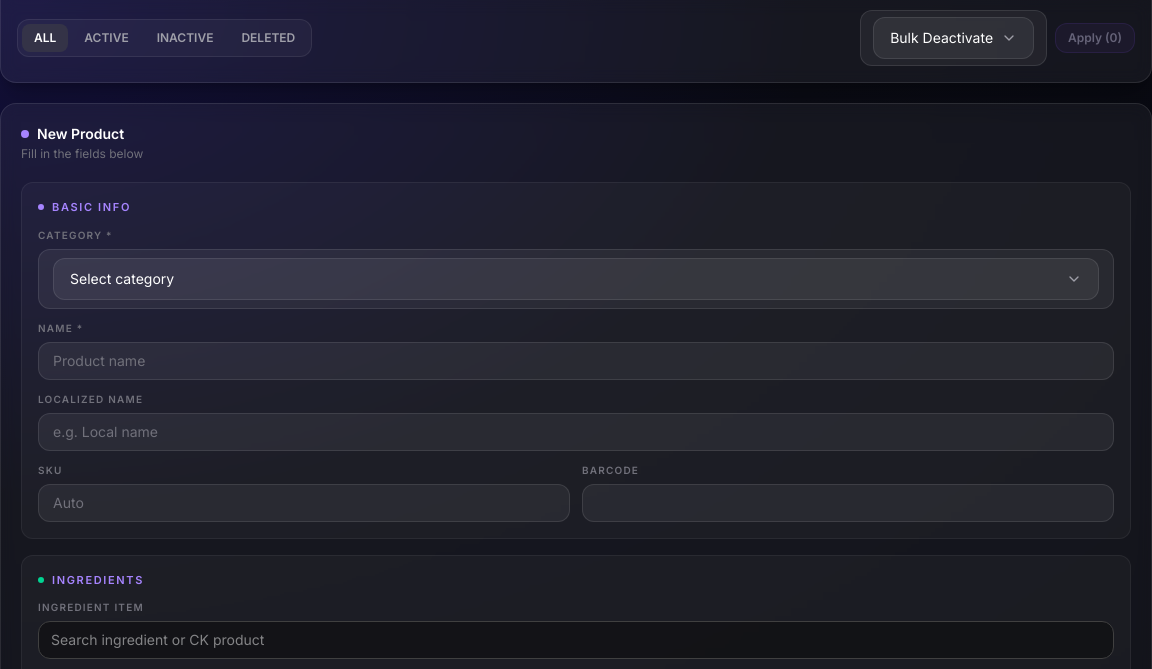
Test: MenuProductsPage — form validation › shows error when category is not selected
The image size is (1152, 669).
(page scrolled)
Type "Test Product" into the field with placeholder "Product name".
click(576, 360); type("Test Product")  # box [38,342,1114,380]
(page scrolled)
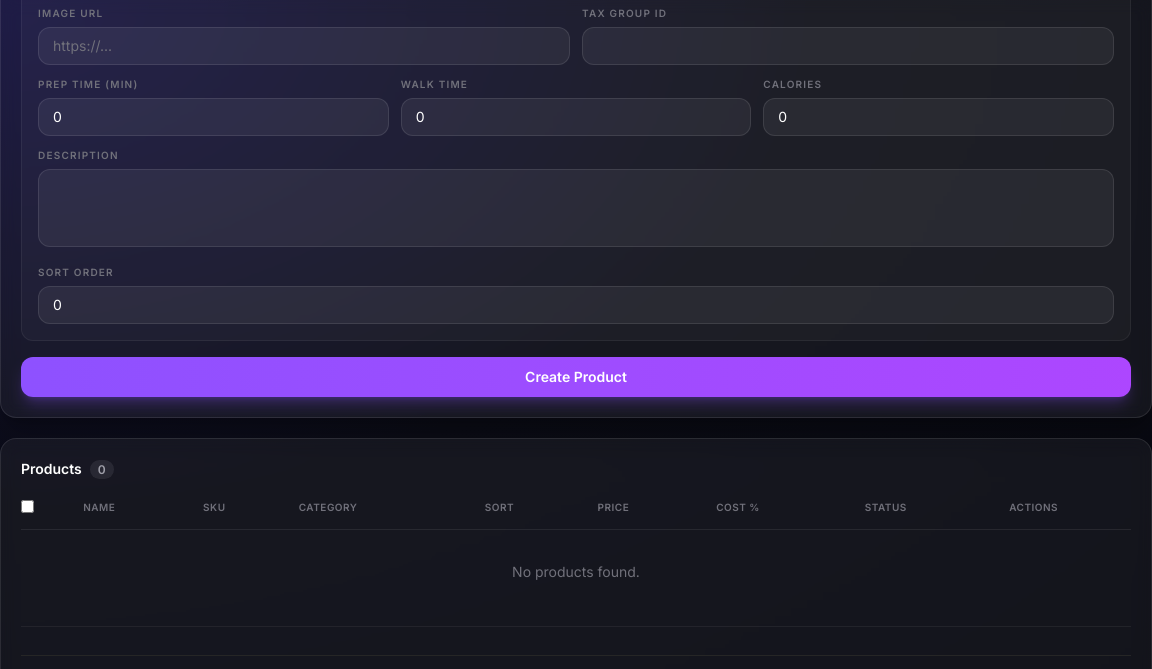
Click the button "Create Product".
click(576, 377)  # box [21,357,1131,397]
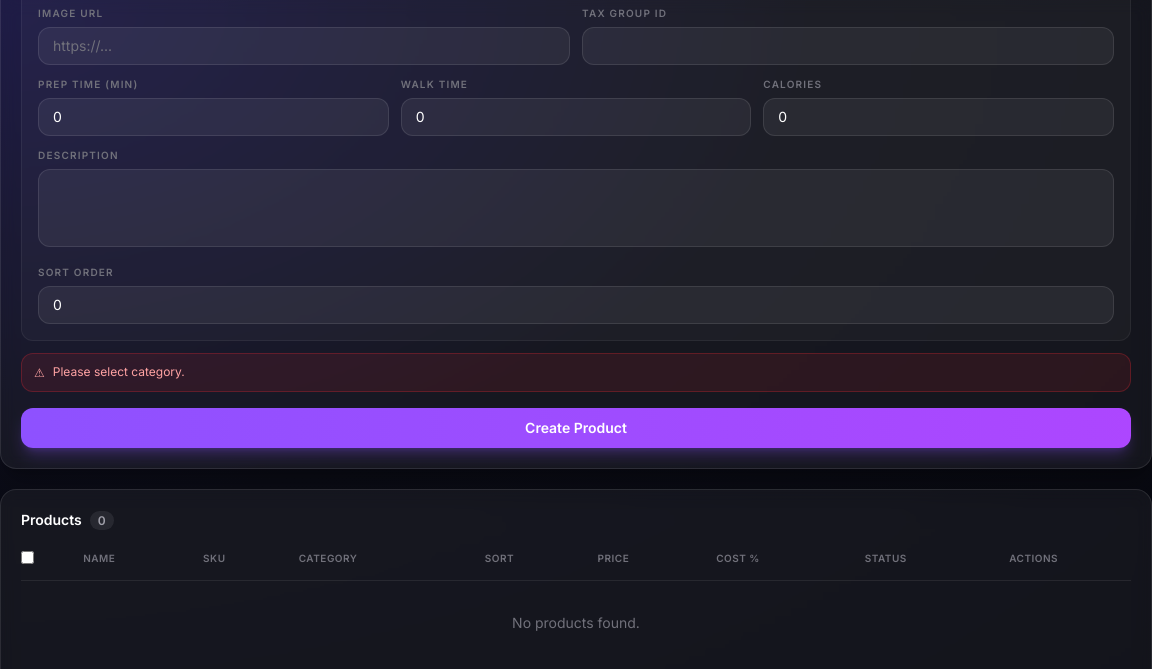
Now the text "⚠ Please select category." is shown, box [21,353,1131,392]
